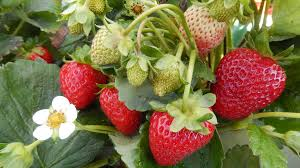ripe: (213, 46, 288, 123), (145, 101, 221, 166), (93, 77, 146, 139), (60, 62, 105, 110), (24, 45, 54, 67)
unripe: (88, 18, 132, 69), (177, 15, 227, 58), (151, 52, 189, 100), (125, 52, 150, 87), (65, 15, 92, 36)
